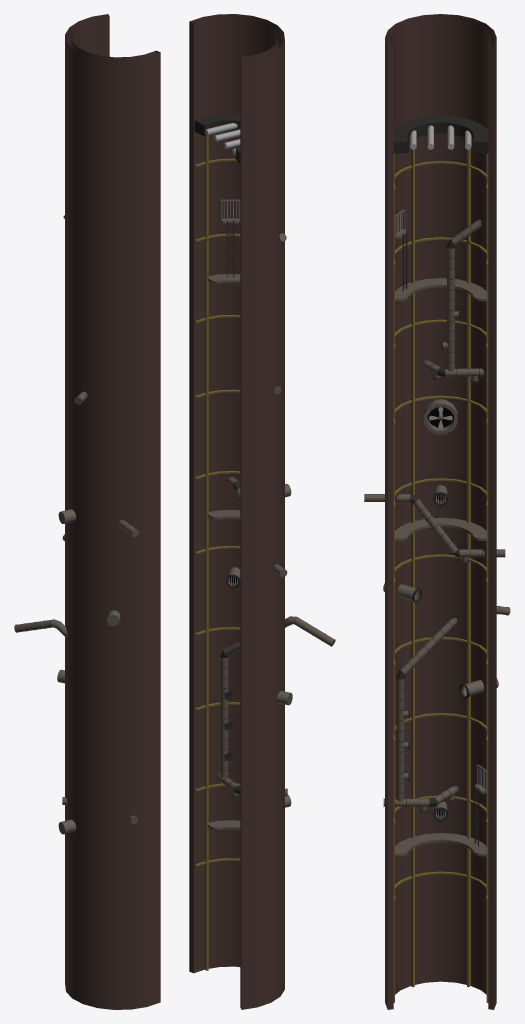
The model's file is Background_v05_Combined.fbx.
The picture shows the model from 3 angles, left to right: view 1: azimuth 30°, elevation 25°; view 2: azimuth 210°, elevation 25°; view 3: azimuth 270°, elevation 25°; orthographic projection.
Visible parts, largest first — view 1: Background; view 2: Background; view 3: Background.
Boxes of the visible parts, x1,y1,x2,y2 form: Background: (14, 14, 160, 1009); Background: (189, 14, 335, 1009); Background: (364, 14, 510, 1009).
Size of the model in its own units: 15.74 by 162 by 22.26.
